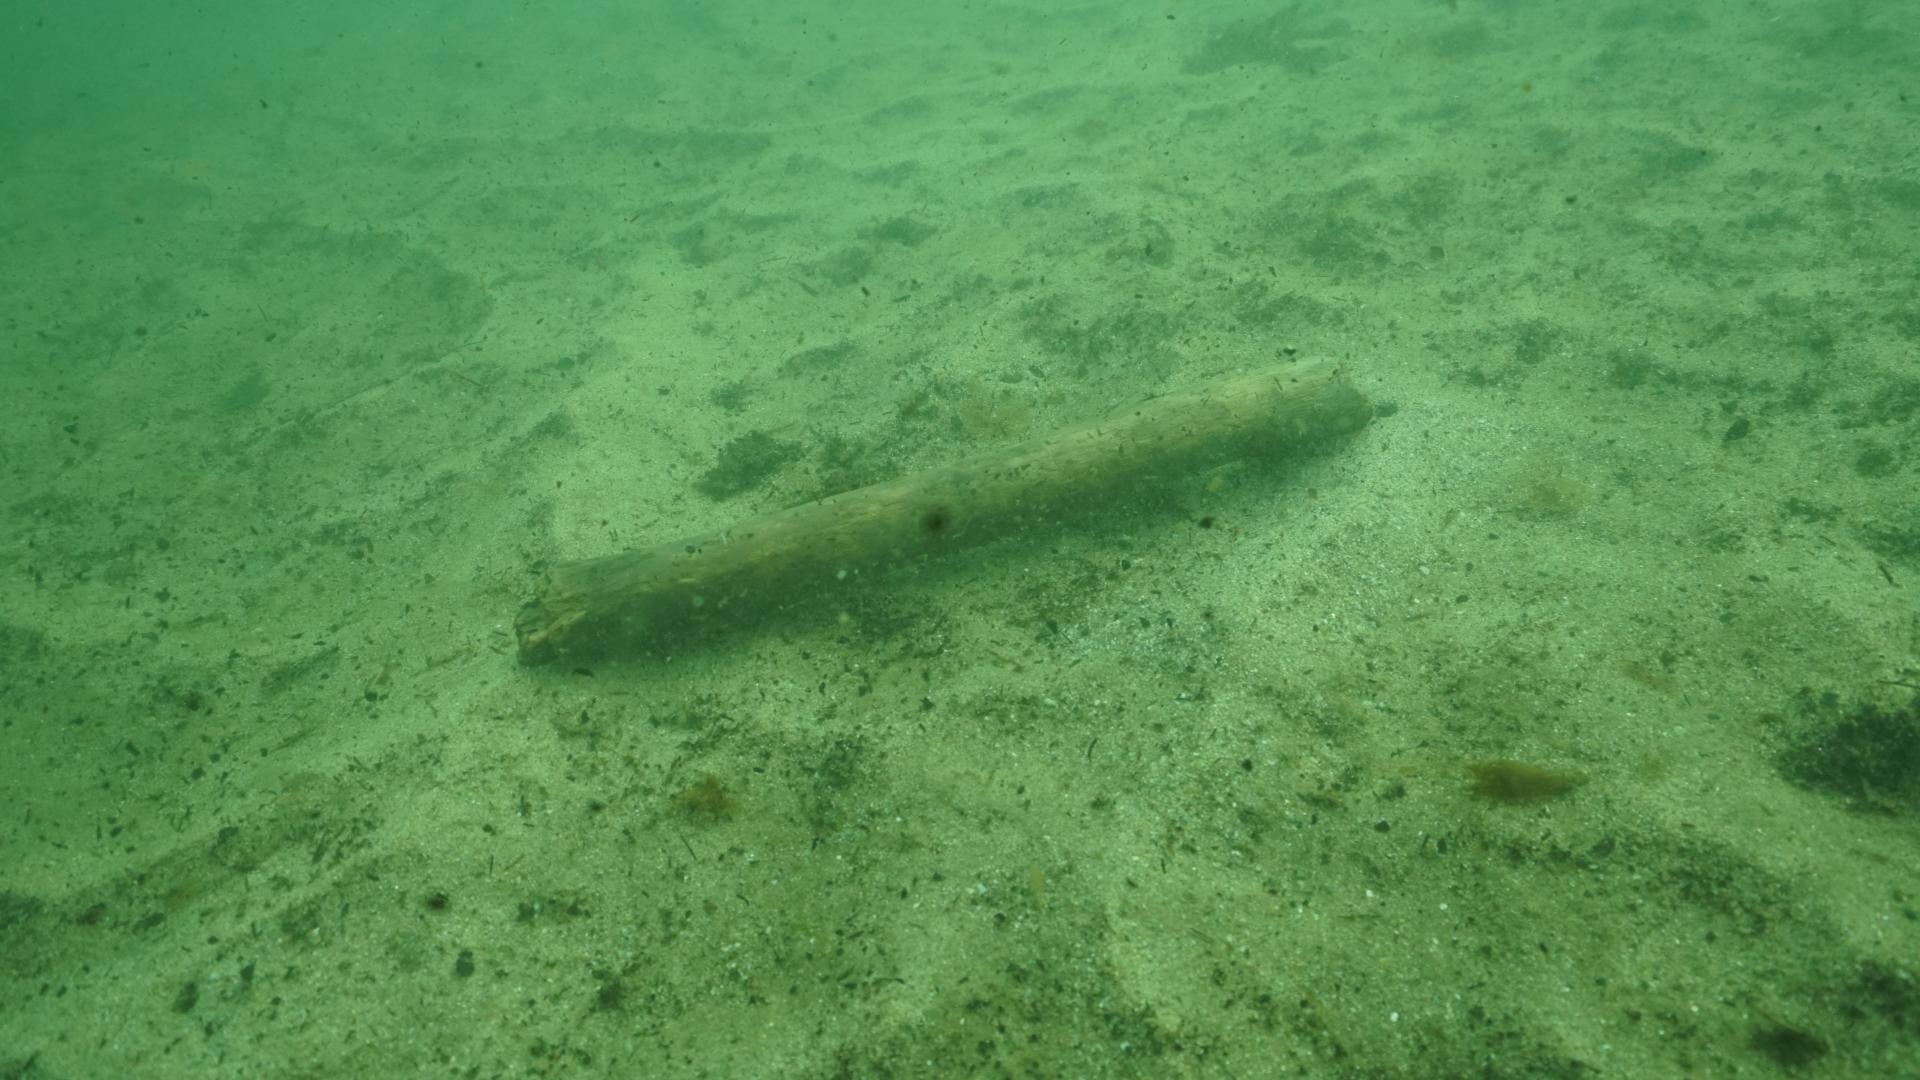wood: (512, 356, 1374, 670)
